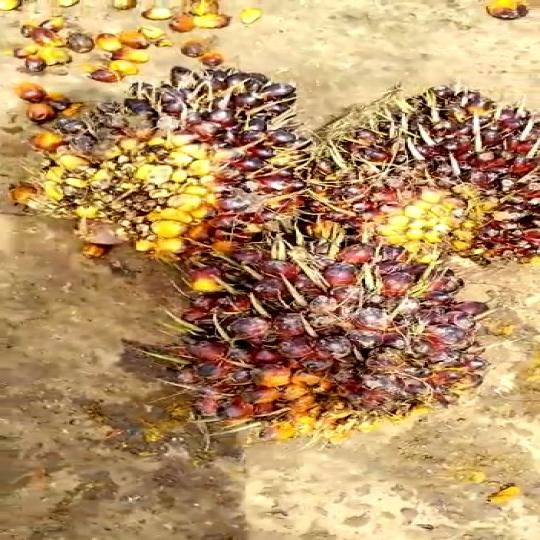kurang masak: (178, 204, 522, 454), (10, 53, 313, 277), (291, 68, 540, 288)
